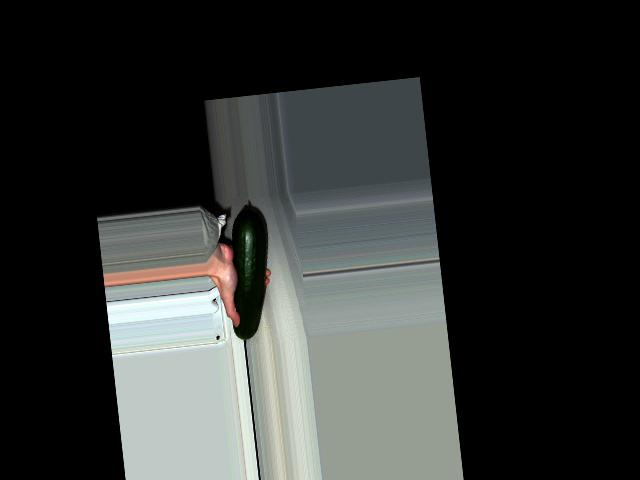cucumber: (220, 203, 279, 340)
